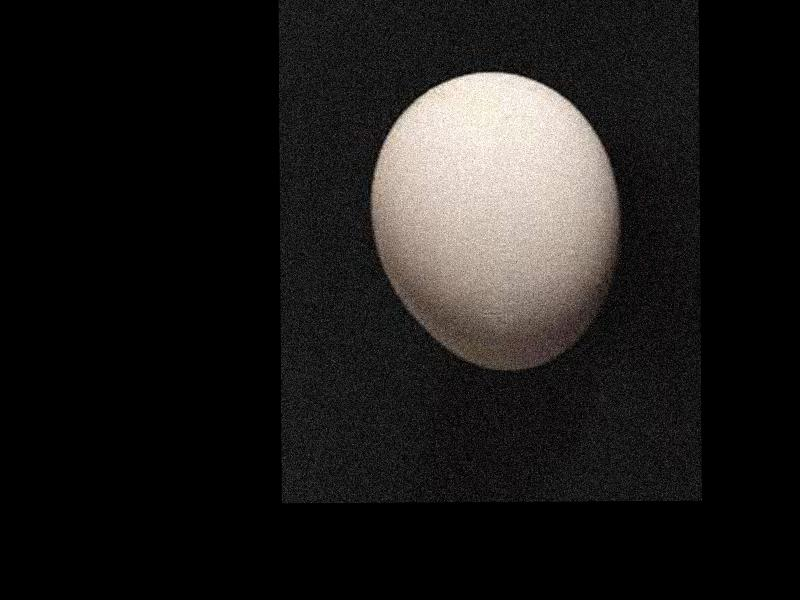Eggs: (371, 69, 618, 370)
